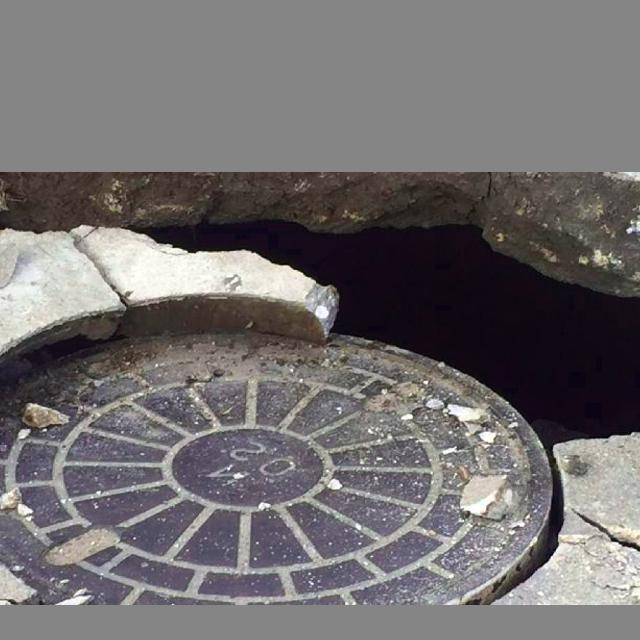circle: (0, 189, 639, 600)
